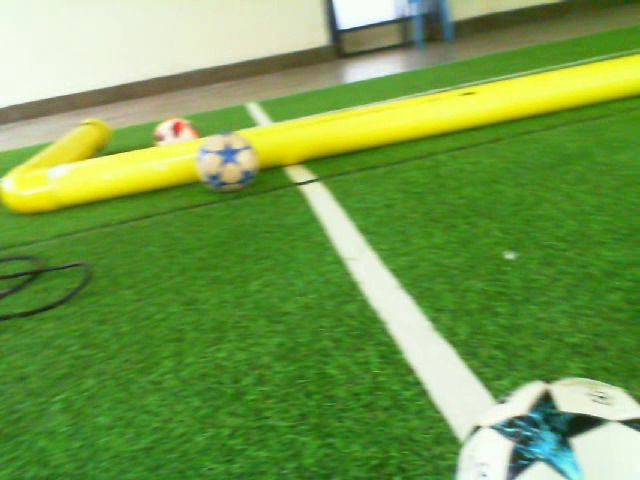ball: (196, 131, 259, 196), (152, 112, 196, 148)
